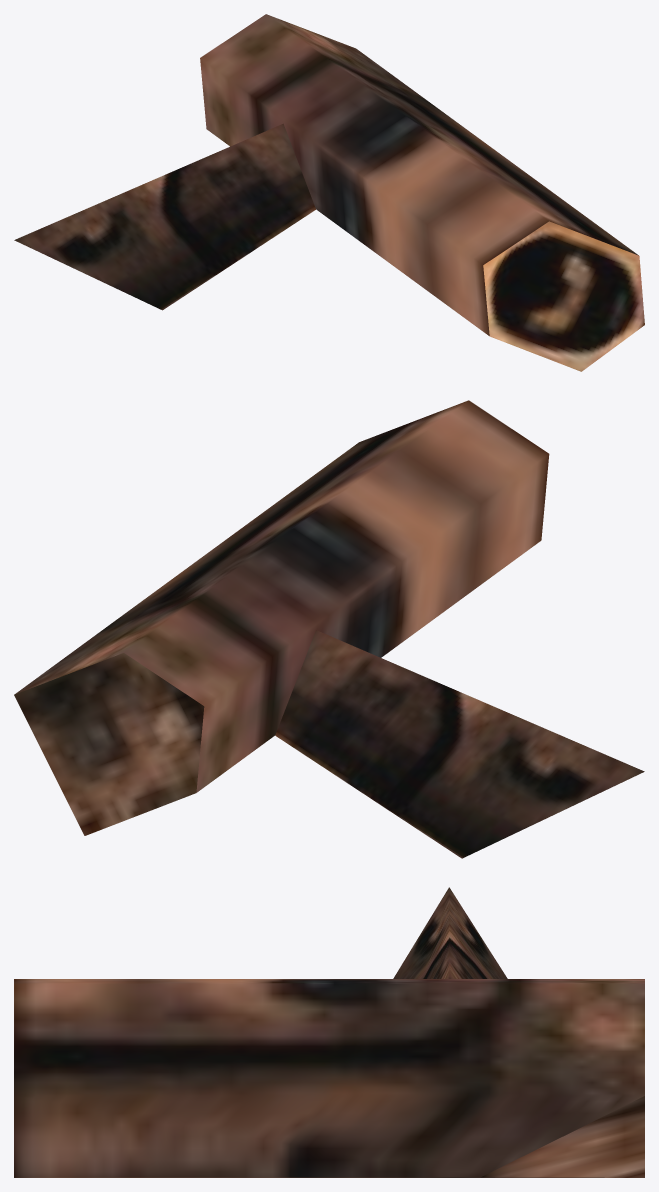
File: mechpiece_arm2_hdtex.glb
The picture shows the model from 3 angles, top to bottom: view 1: azimuth 30°, elevation 25°; view 2: azimuth 150°, elevation 25°; view 3: azimuth 270°, elevation 25°; orthographic projection. The views are drawn at different scales.
Visible parts, largest first — view 1: mc_lgun01; view 2: mc_lgun01; view 3: mc_lgun01.
Part boxes in pixels (box(x1,y1,x2,y2)): mc_lgun01: box(14, 14, 644, 371); mc_lgun01: box(14, 400, 644, 858); mc_lgun01: box(14, 887, 644, 1177).
Bounding box in the file's own units: 4.04 × 1.41 × 4.55.
Materials: 1 (1 with a texture image).
